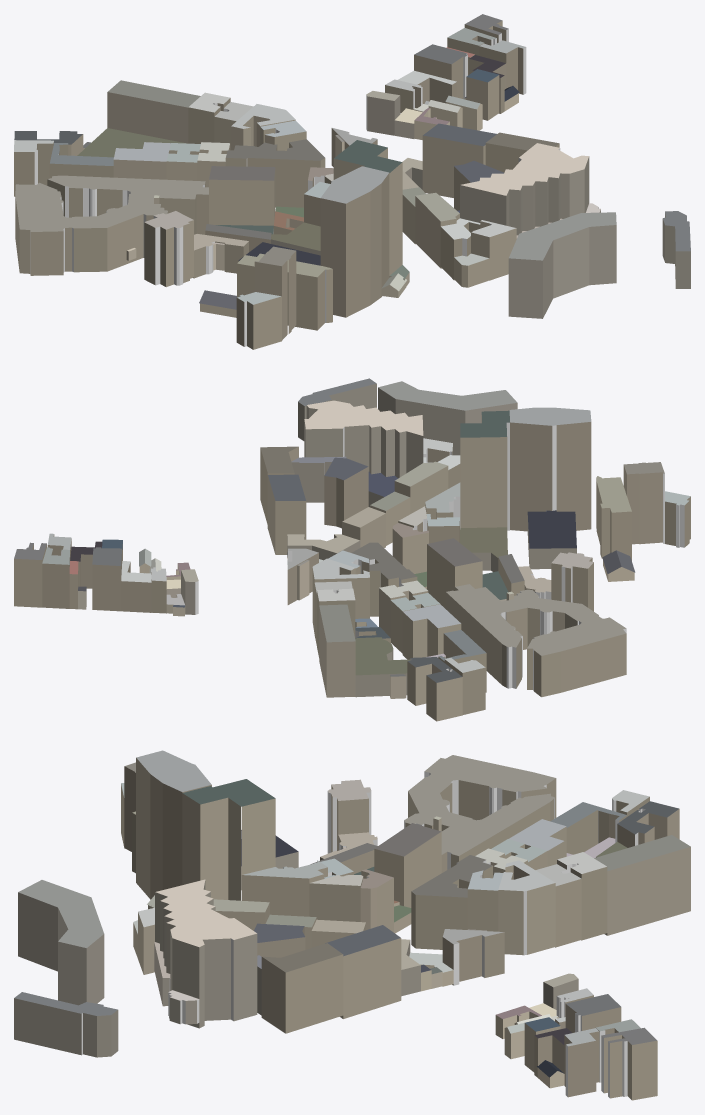
The picture shows the model from 3 angles, top to bottom: view 1: azimuth 30°, elevation 25°; view 2: azimuth 150°, elevation 25°; view 3: azimuth 270°, elevation 25°; orthographic projection. The views are drawn at different scales.
Visible parts, largest first — view 1: tuile; view 2: tuile; view 3: tuile.
Boxes of the visible parts, x1,y1,x2,y2 form: tuile: (14,14,690,349); tuile: (14,378,690,721); tuile: (14,750,690,1100).
Bounding box in the file's own units: 302 × 66.61 × 285.
